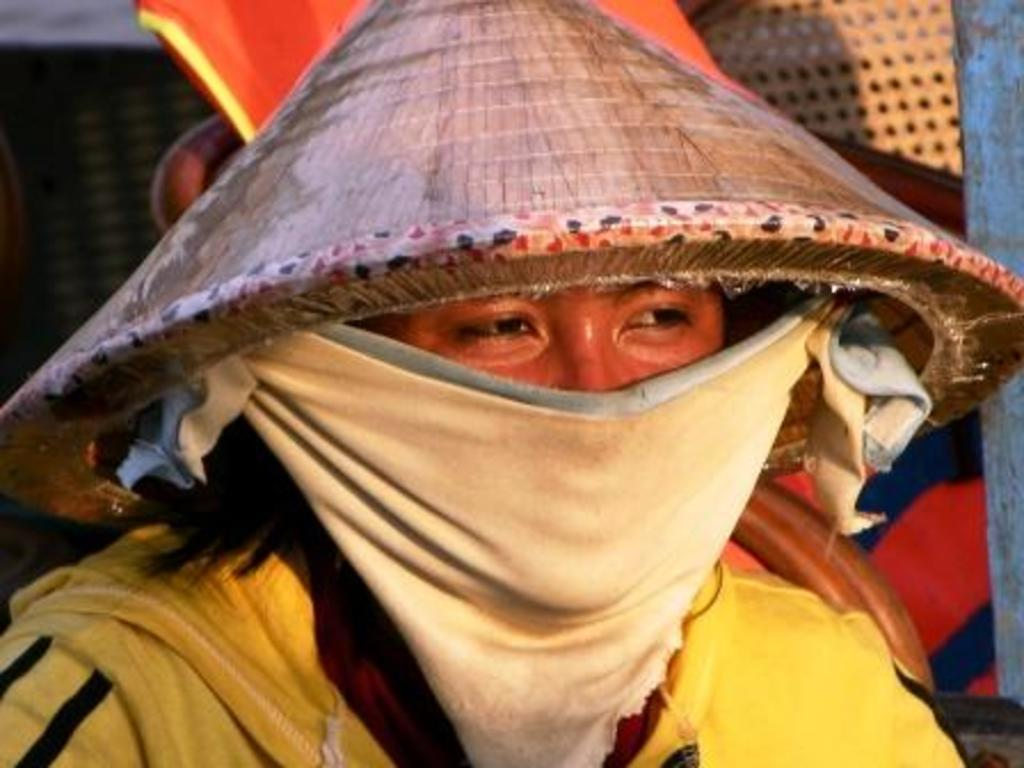Hat: (0, 0, 1021, 532)
